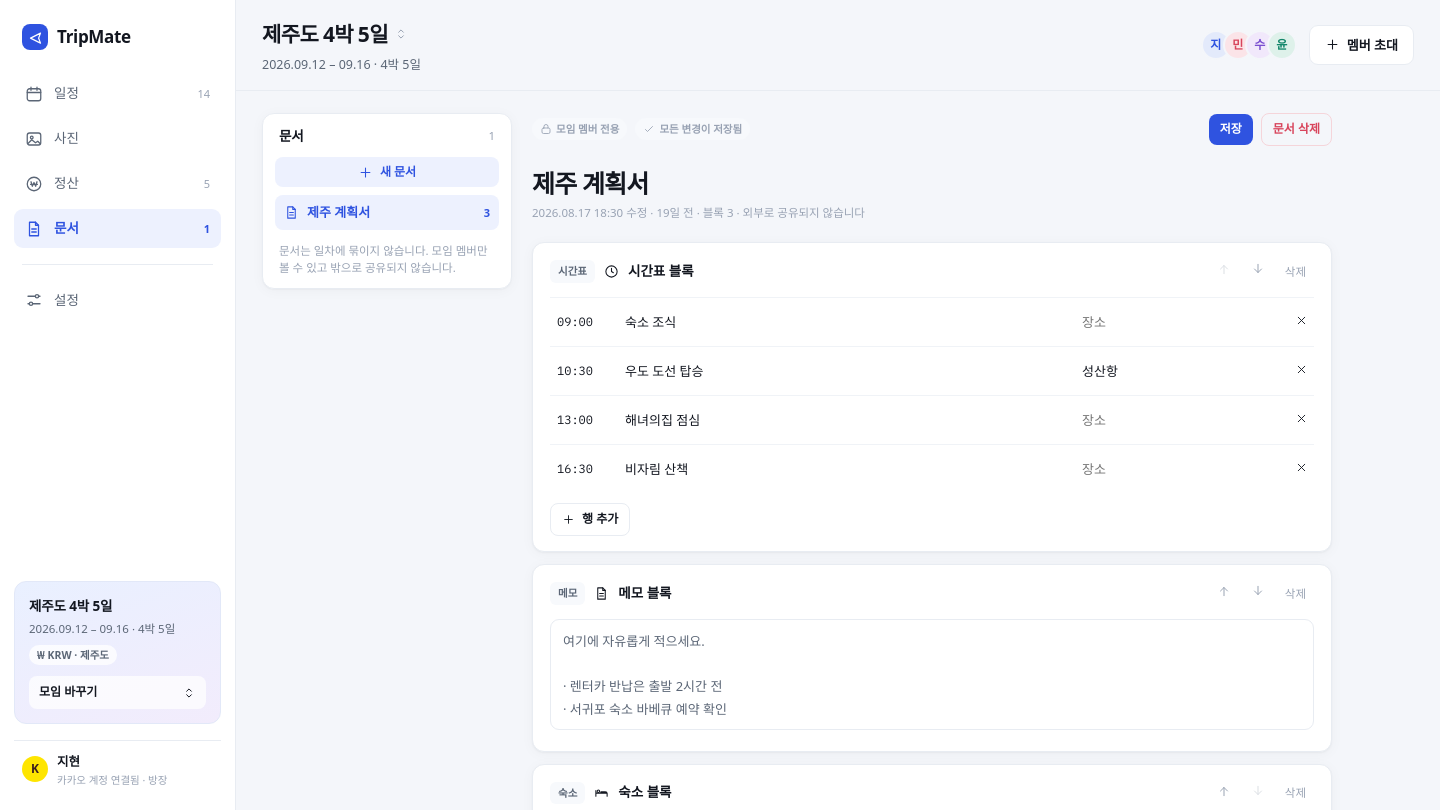
Test: 문서 본문 › 삭제 확인은 브라우저 confirm 이 아니라 모달이다
expect the button "제주 계획서" is shown: met, box [532, 162, 1332, 204]
What coordinates should you click on to do the following:
click the button "문서 삭제"
I would click on:
 (1296, 129)
Its box is [1261, 113, 1332, 146].
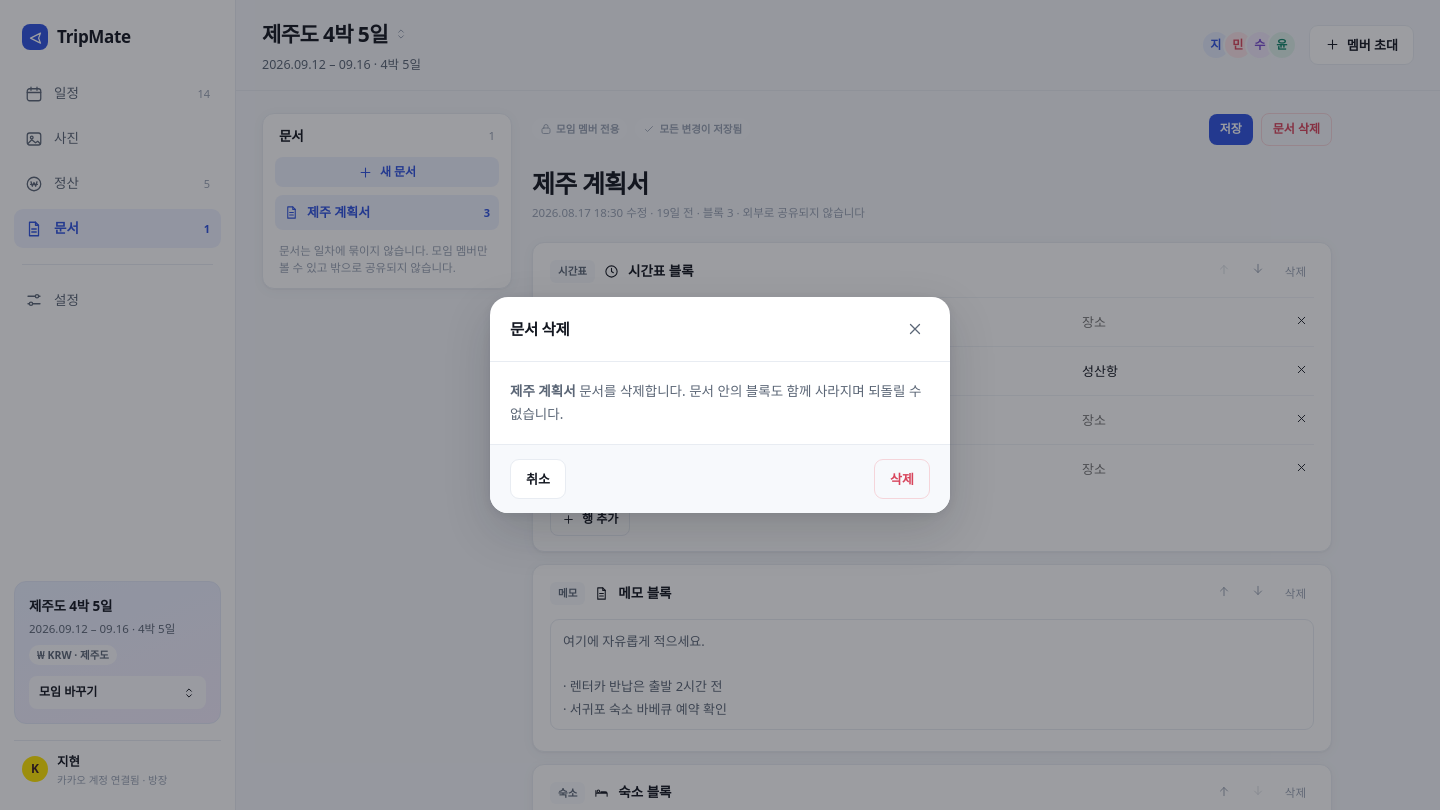
expect the heading "문서 삭제" is shown: met, box [510, 317, 570, 341]
expect the dialog shows "되돌릴 수 없습니다": met, box [510, 382, 921, 423]
